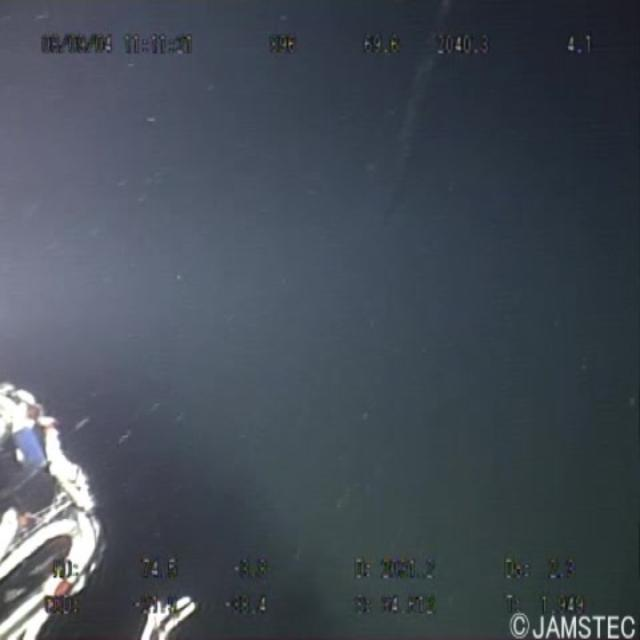Metal: (368, 0, 506, 238)
